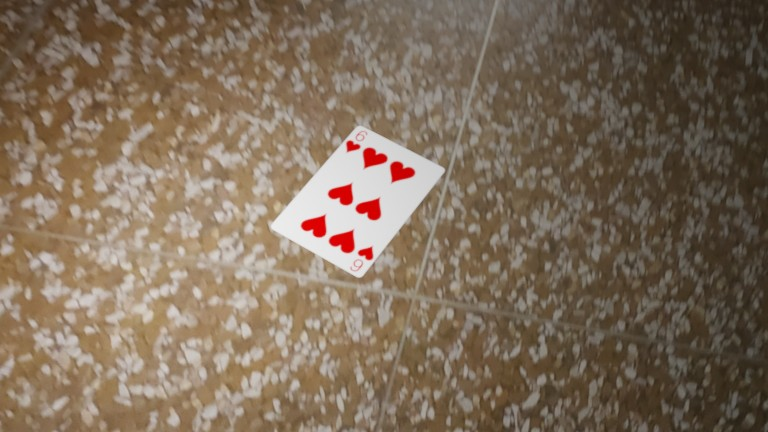6_of_hearts: (344, 240, 382, 276), (339, 127, 374, 158)
